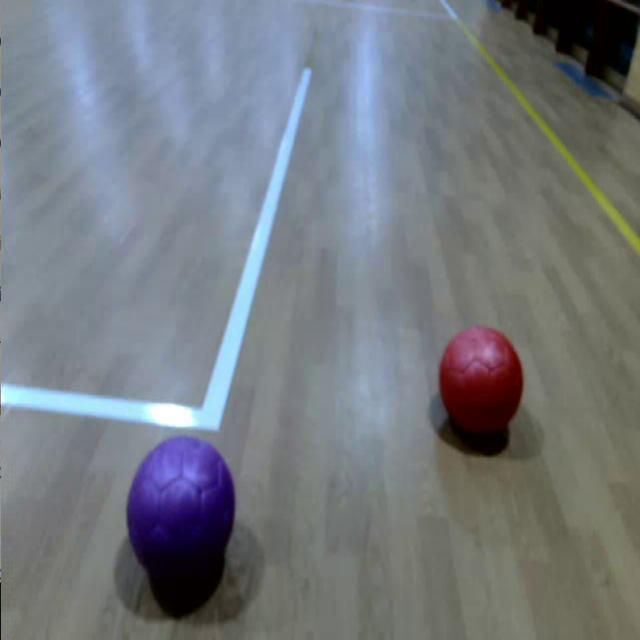purple_ball: (128, 433, 236, 578)
red_ball: (438, 326, 524, 438)
